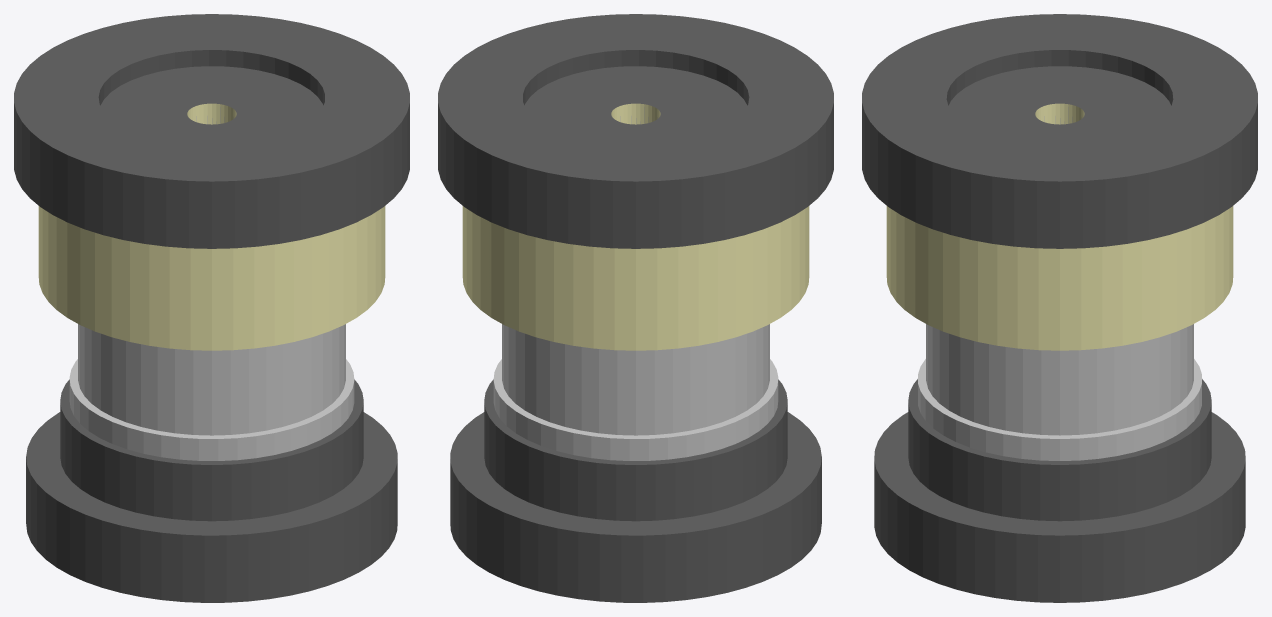
Rendered from force_sensor.dae.
The picture shows the model from 3 angles, left to right: view 1: azimuth 30°, elevation 25°; view 2: azimuth 150°, elevation 25°; view 3: azimuth 270°, elevation 25°; orthographic projection.
Parts seen in each view (by area): view 1: force_sensor; view 2: force_sensor; view 3: force_sensor.
Boxes of the visible parts, x1,y1,x2,y2 form: force_sensor: (14,14,409,602); force_sensor: (438,14,833,602); force_sensor: (862,14,1257,602).
Size of the model in its own units: 0.064 by 0.0639 by 0.076.
